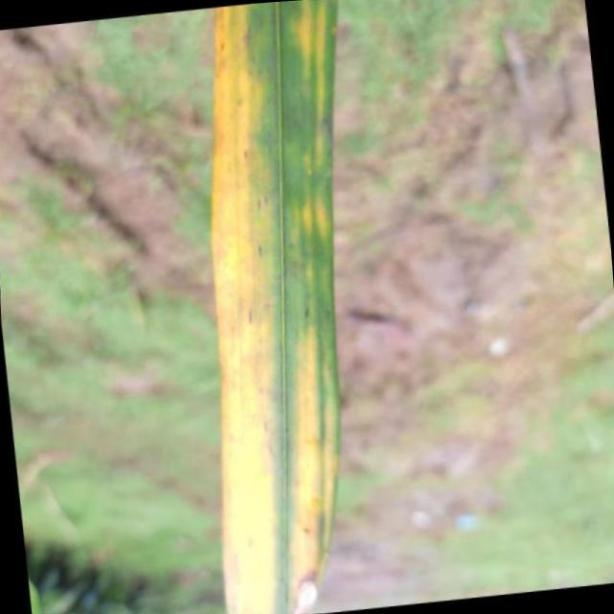Megnesium: (210, 0, 340, 614)
